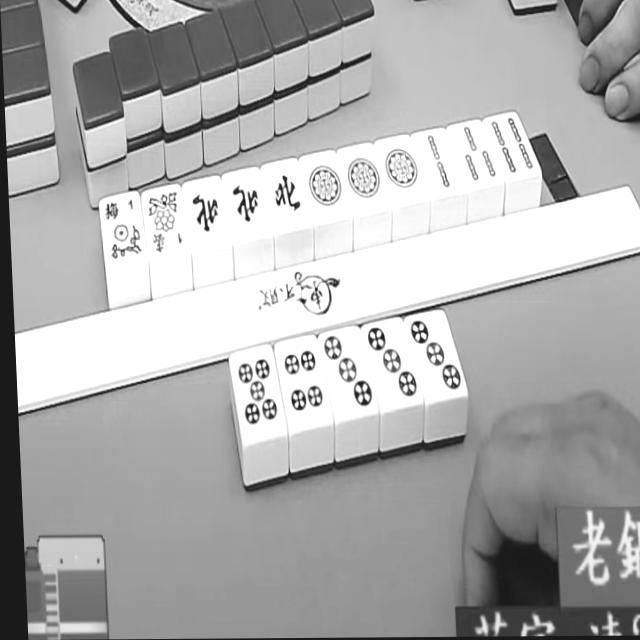f1: (99, 195, 145, 265)
ff1: (142, 184, 187, 257)
north: (265, 162, 309, 222), (186, 181, 226, 242), (228, 173, 268, 232)
s2: (414, 129, 460, 195)
s3: (451, 120, 498, 186)
s4: (488, 110, 539, 178)
t1: (377, 135, 427, 202), (302, 152, 350, 218), (340, 145, 388, 209)
t3: (409, 310, 466, 397), (319, 327, 375, 412), (365, 318, 421, 403)
t4: (275, 338, 330, 419)
t5: (228, 346, 284, 432)
